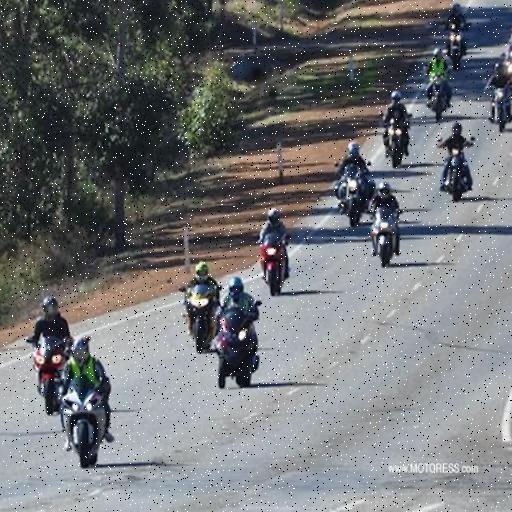Helmet: (376, 179, 398, 208), (222, 275, 246, 301), (41, 294, 62, 322), (343, 139, 368, 162), (70, 338, 91, 363), (430, 43, 447, 66), (448, 118, 465, 140), (195, 261, 211, 283), (266, 208, 282, 229), (389, 89, 404, 108)
Motor: (60, 382, 114, 469), (215, 303, 262, 392), (31, 339, 69, 406), (185, 290, 218, 349), (441, 144, 475, 201), (370, 214, 402, 268), (260, 236, 288, 295), (338, 169, 366, 222), (379, 114, 409, 158), (427, 76, 449, 118)
